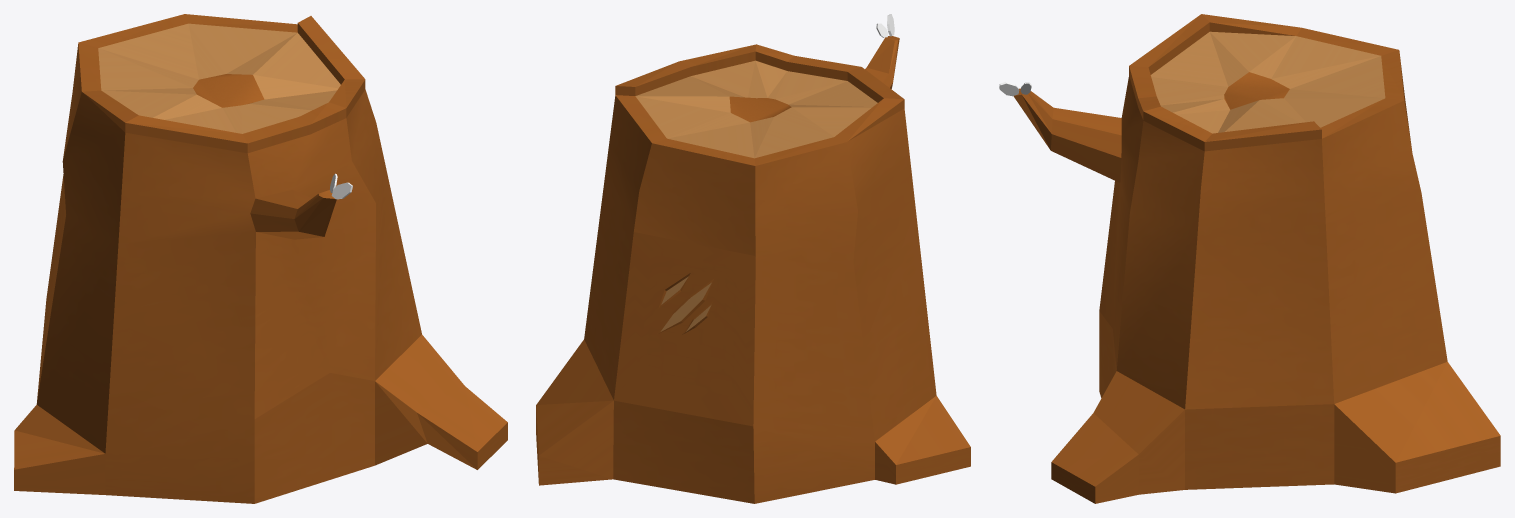
Rendered from Scratched tree.fbx.
3 renders of one model, left to right at view 1: azimuth 30°, elevation 25°; view 2: azimuth 150°, elevation 25°; view 3: azimuth 270°, elevation 25°, orthographic. The views are drawn at different scales.
Visible parts, largest first — view 1: Cylinder001; view 2: Cylinder001; view 3: Cylinder001.
Part boxes in pixels (x1,y1,x2,y2): Cylinder001: (14, 14, 507, 503); Cylinder001: (536, 14, 970, 503); Cylinder001: (999, 14, 1500, 503).
Bounding box in the file's own units: 13.53 × 11.14 × 14.79.
